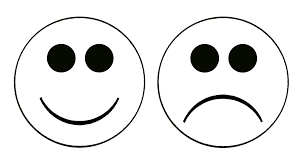feliz: (11, 6, 148, 157), (35, 39, 129, 125)
triste: (155, 17, 291, 148), (182, 38, 270, 125)
